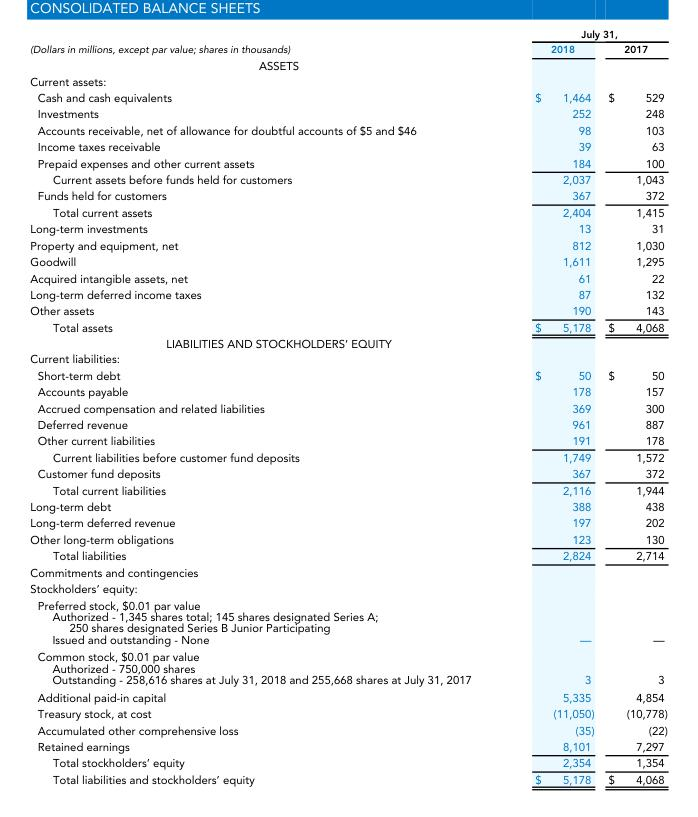table: (29, 29, 666, 785)
table column: (29, 29, 502, 785), (502, 29, 600, 785), (600, 29, 666, 785)
table column header: (29, 29, 666, 57)
table projected row header: (29, 57, 666, 74), (29, 564, 666, 581), (29, 351, 666, 367), (29, 581, 666, 597), (29, 74, 666, 89), (29, 336, 666, 351)
table row: (29, 597, 666, 648), (29, 648, 666, 688), (29, 688, 666, 706), (29, 57, 666, 74), (29, 89, 666, 106), (29, 122, 666, 139), (29, 171, 666, 188), (29, 204, 666, 221), (29, 237, 666, 254), (29, 286, 666, 303), (29, 319, 666, 336), (29, 367, 666, 384), (29, 416, 666, 433), (29, 449, 666, 466), (29, 498, 666, 515), (29, 531, 666, 548), (29, 564, 666, 581), (29, 738, 666, 755), (29, 41, 666, 57), (29, 106, 666, 122), (29, 139, 666, 155), (29, 155, 666, 171), (29, 188, 666, 204), (29, 221, 666, 237), (29, 254, 666, 270), (29, 270, 666, 286), (29, 303, 666, 319), (29, 351, 666, 367), (29, 384, 666, 400), (29, 400, 666, 416), (29, 433, 666, 449), (29, 466, 666, 482), (29, 482, 666, 498), (29, 515, 666, 531), (29, 548, 666, 564), (29, 581, 666, 597), (29, 706, 666, 722), (29, 722, 666, 738), (29, 755, 666, 771), (29, 74, 666, 89), (29, 336, 666, 351), (29, 771, 666, 785), (29, 29, 666, 41)
table spanning cell: (29, 29, 502, 57), (502, 29, 666, 41)
